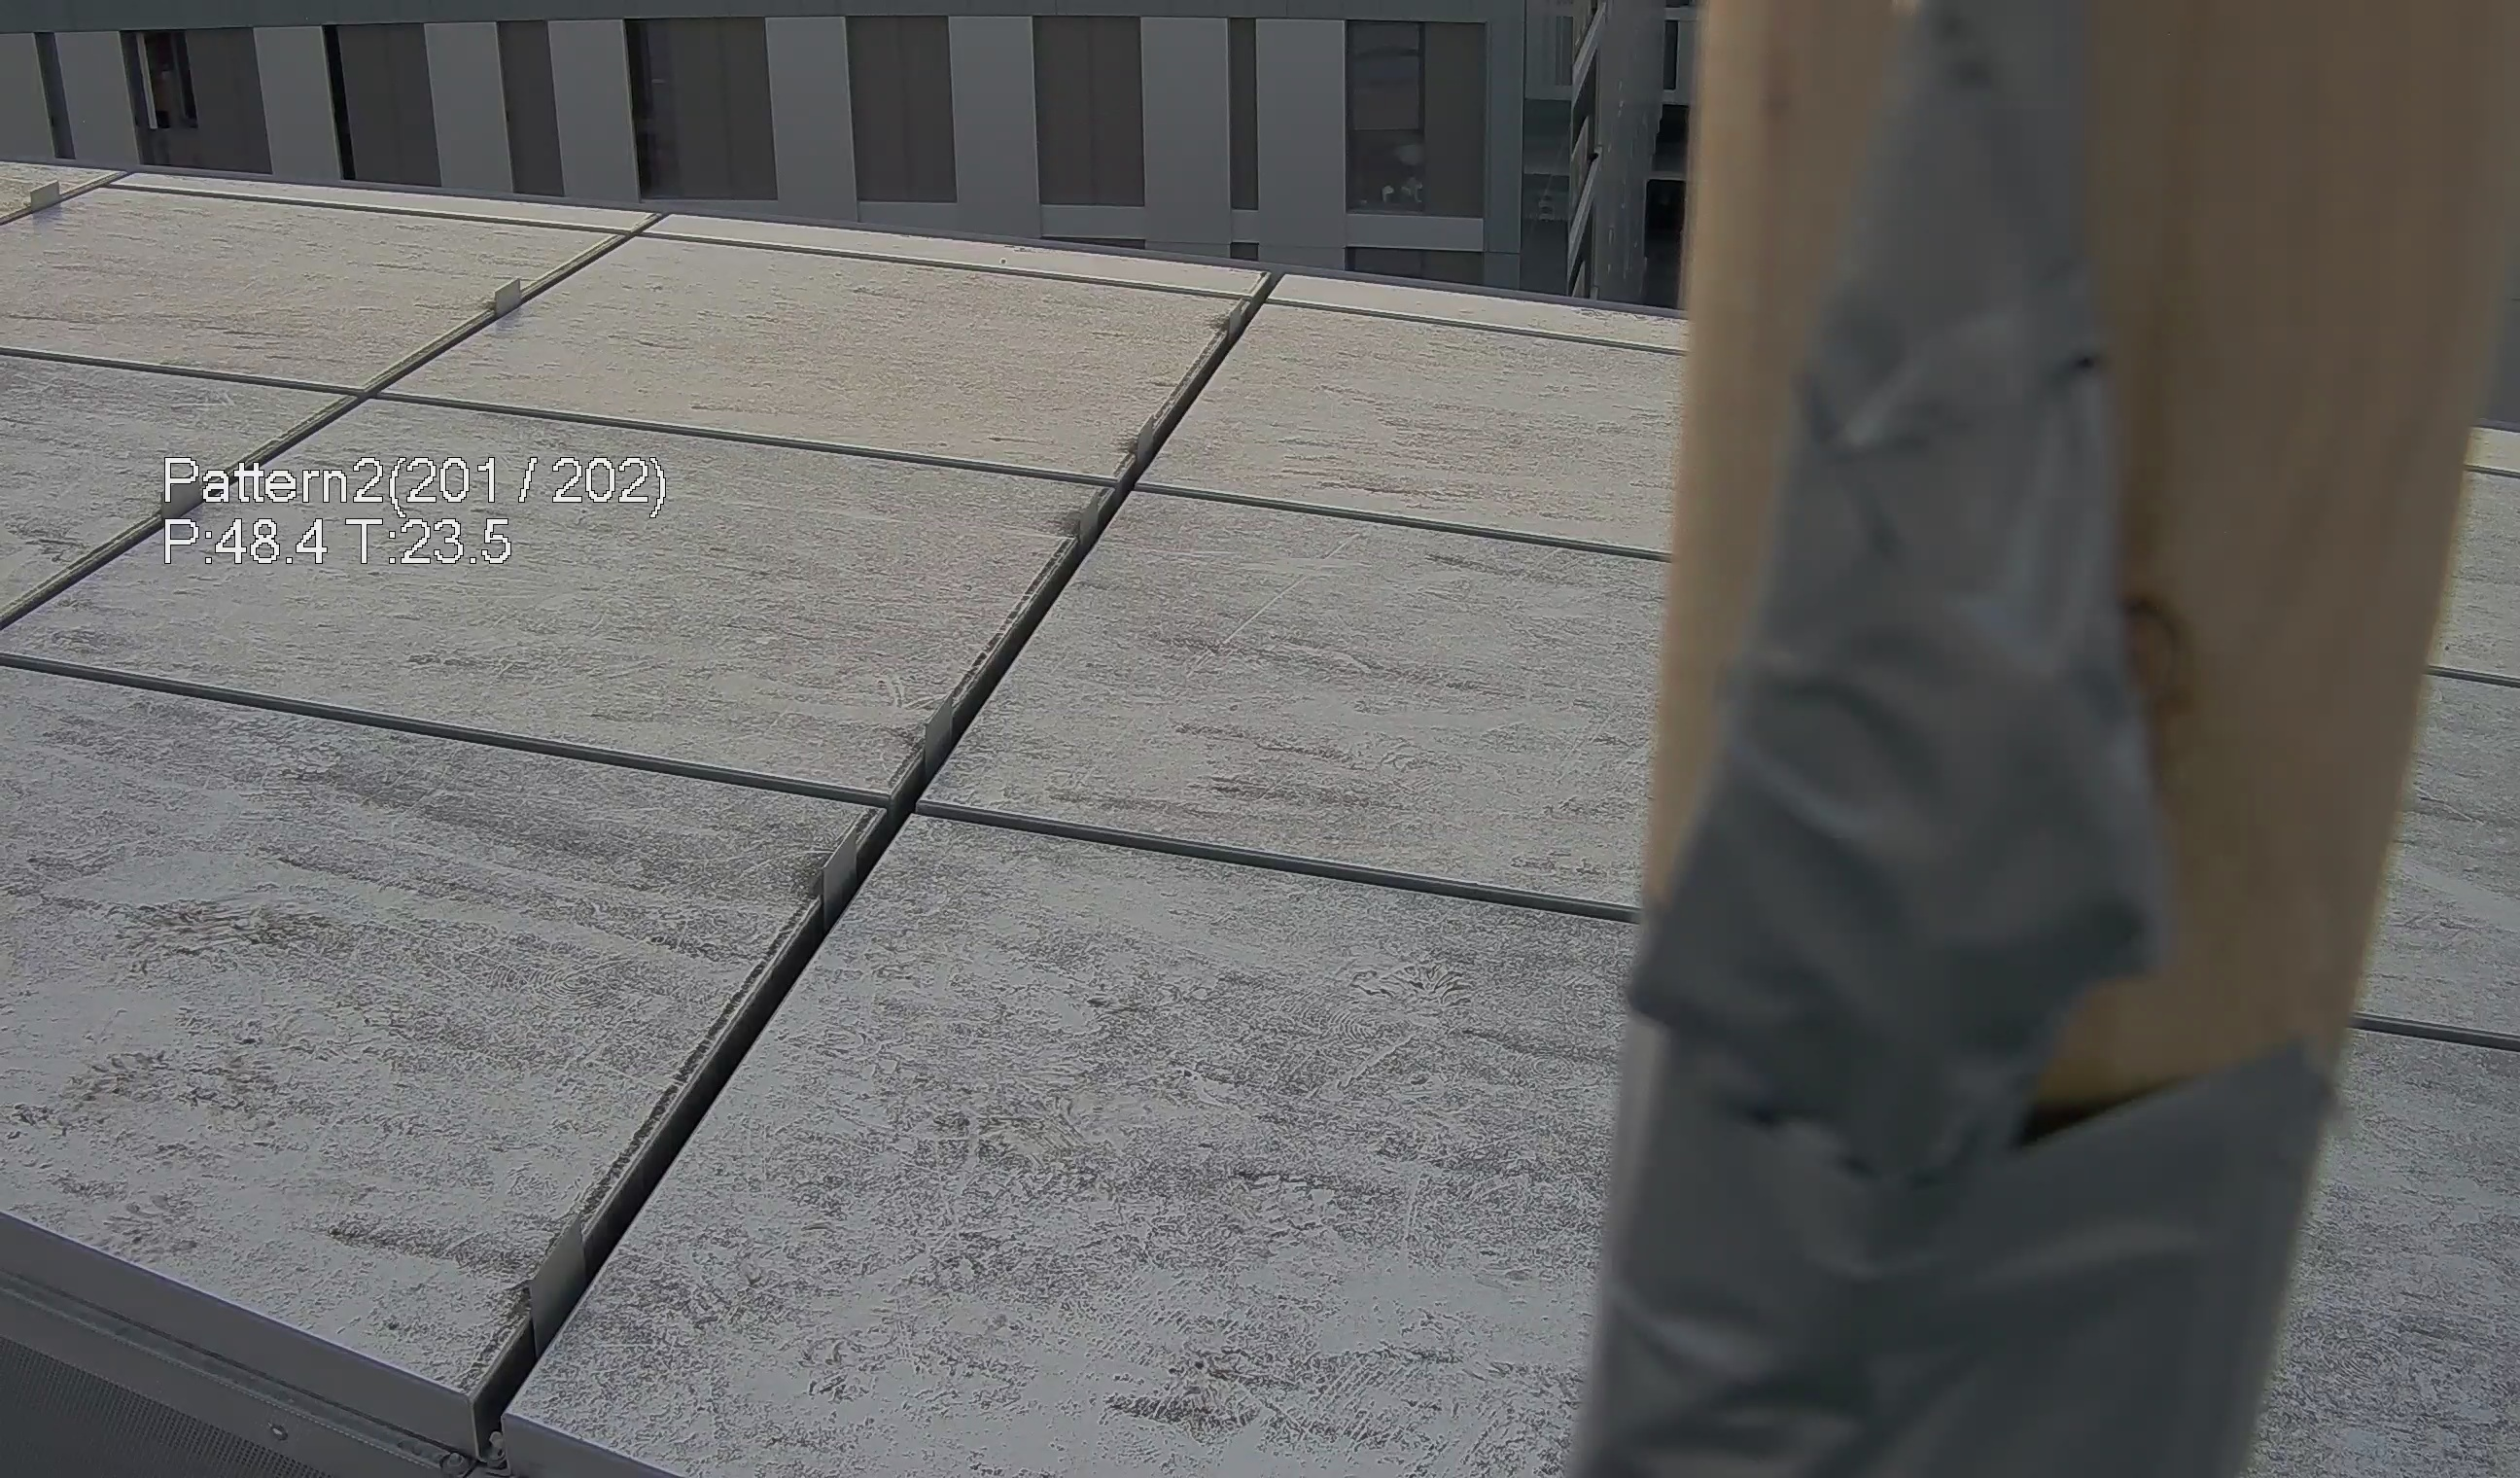Other: (1595, 91, 2465, 1401)
